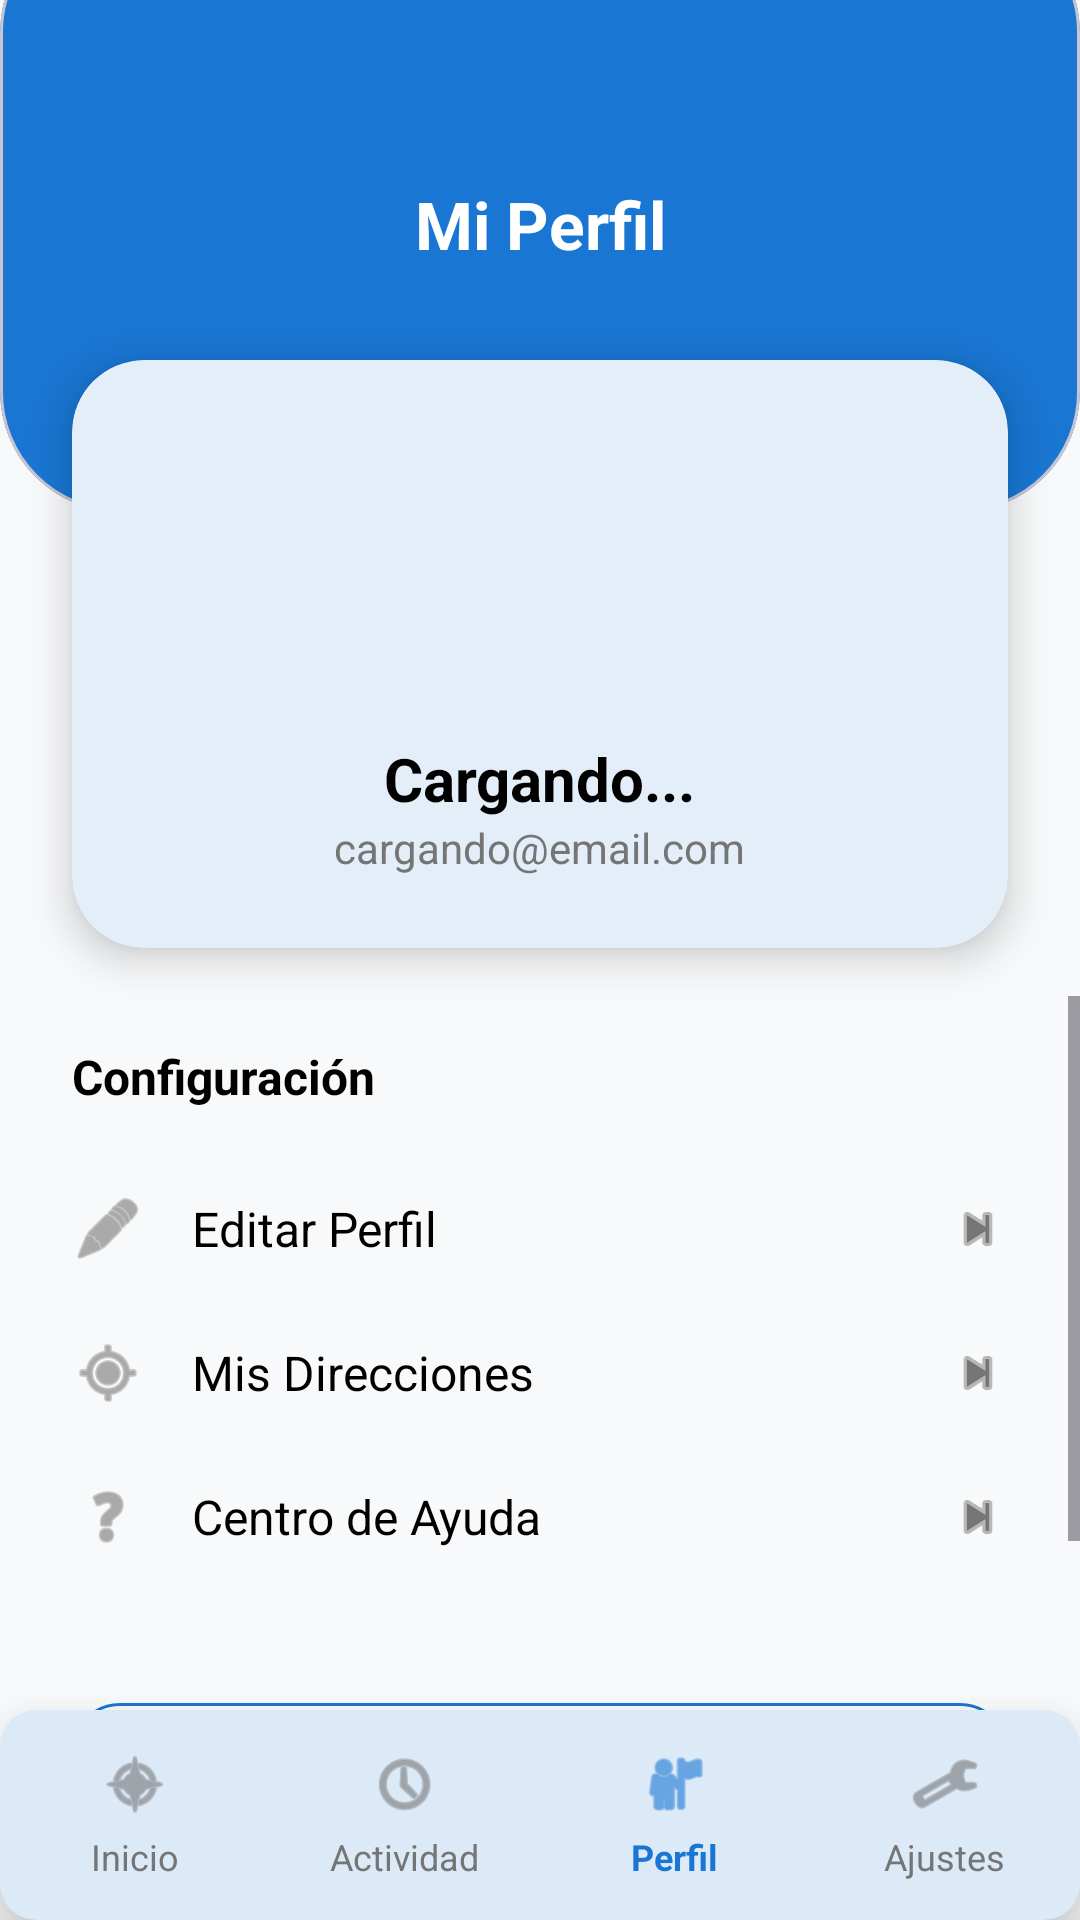

Screen size 1080w x 1920h. Icon name, then its center in pixels as point (x, y):
compass: point (134, 1784)
help: point (108, 1517)
mylocation: point (108, 1373)
myplaces: point (676, 1784)
next: point (978, 1229), point (978, 1373), point (978, 1517)
recent history: point (405, 1784)
